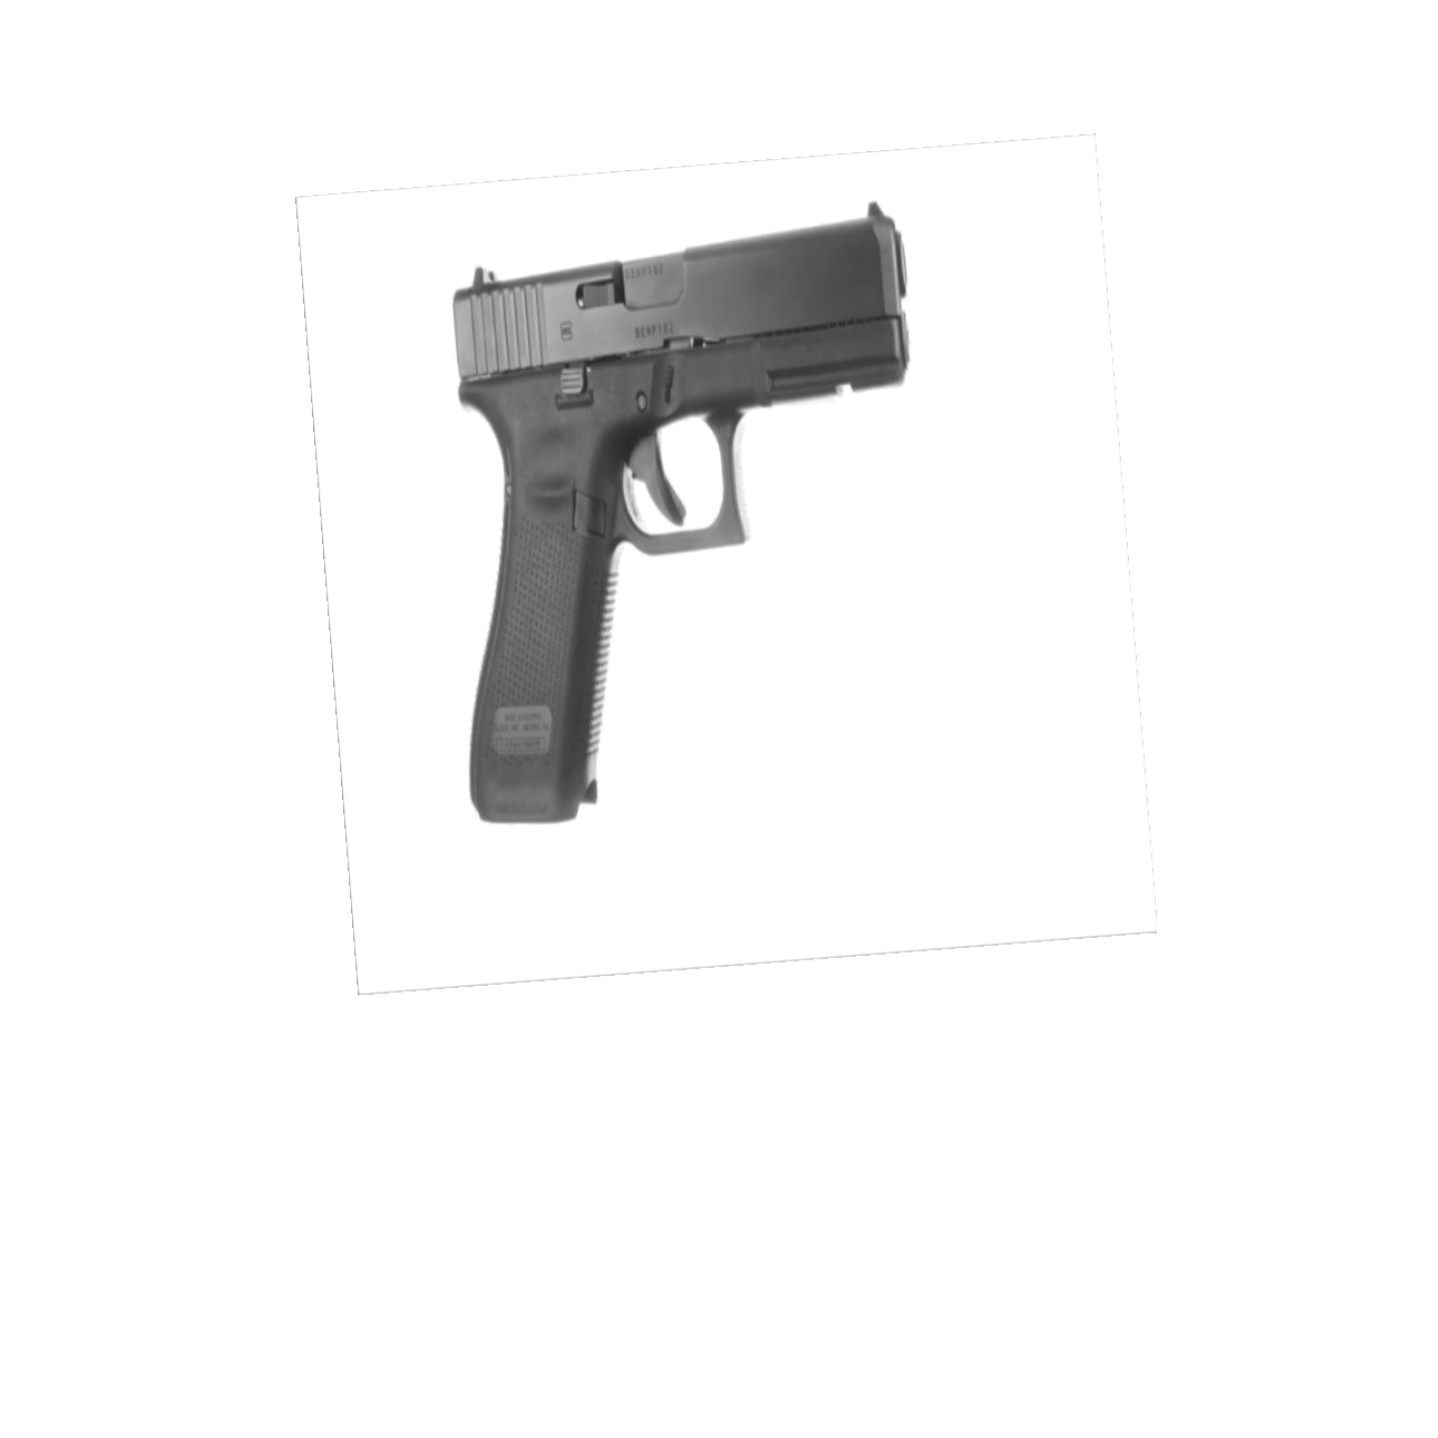gun: (429, 190, 923, 830)
